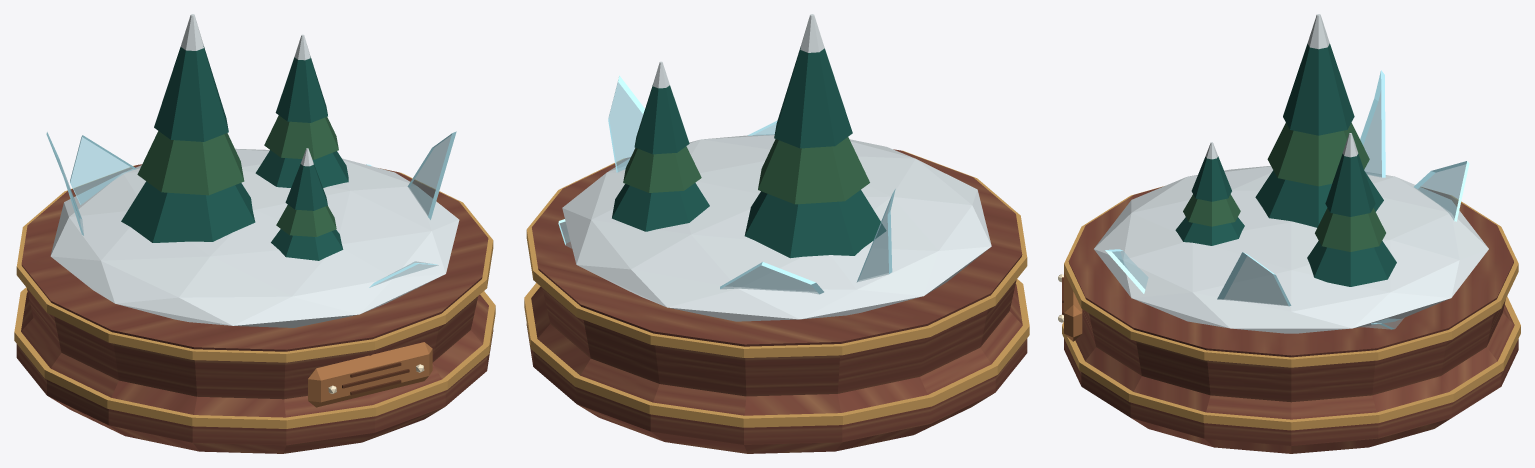
The model's file is snow_globe_spruce_broken_base.glb.
The picture shows the model from 3 angles, left to right: view 1: azimuth 30°, elevation 25°; view 2: azimuth 150°, elevation 25°; view 3: azimuth 270°, elevation 25°; orthographic projection. The views are drawn at different scales.
Visible parts, largest first — view 1: Brass pedestal rim.006; view 2: Brass pedestal rim.006; view 3: Brass pedestal rim.006.
Boxes of the visible parts, x1,y1,x2,y2 form: Brass pedestal rim.006: [14, 14, 495, 453]; Brass pedestal rim.006: [524, 14, 1029, 453]; Brass pedestal rim.006: [1058, 14, 1520, 453].
Size of the model in its own units: 0.202 by 0.161 by 0.2037.
10 materials, 1 textured.
